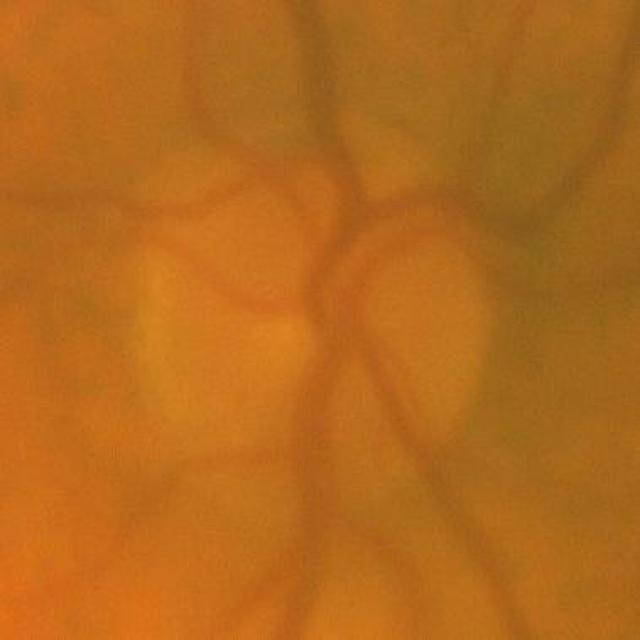OC: (246, 296, 330, 374)
OD: (130, 102, 488, 509)
